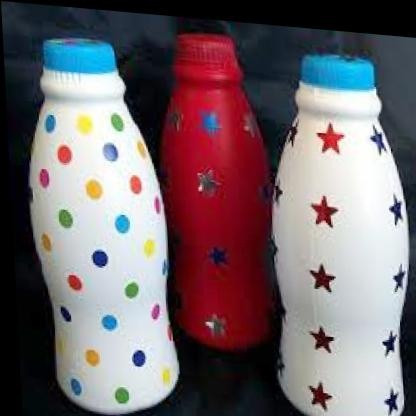trash: (29, 39, 178, 413), (273, 54, 408, 415), (162, 33, 270, 349)
